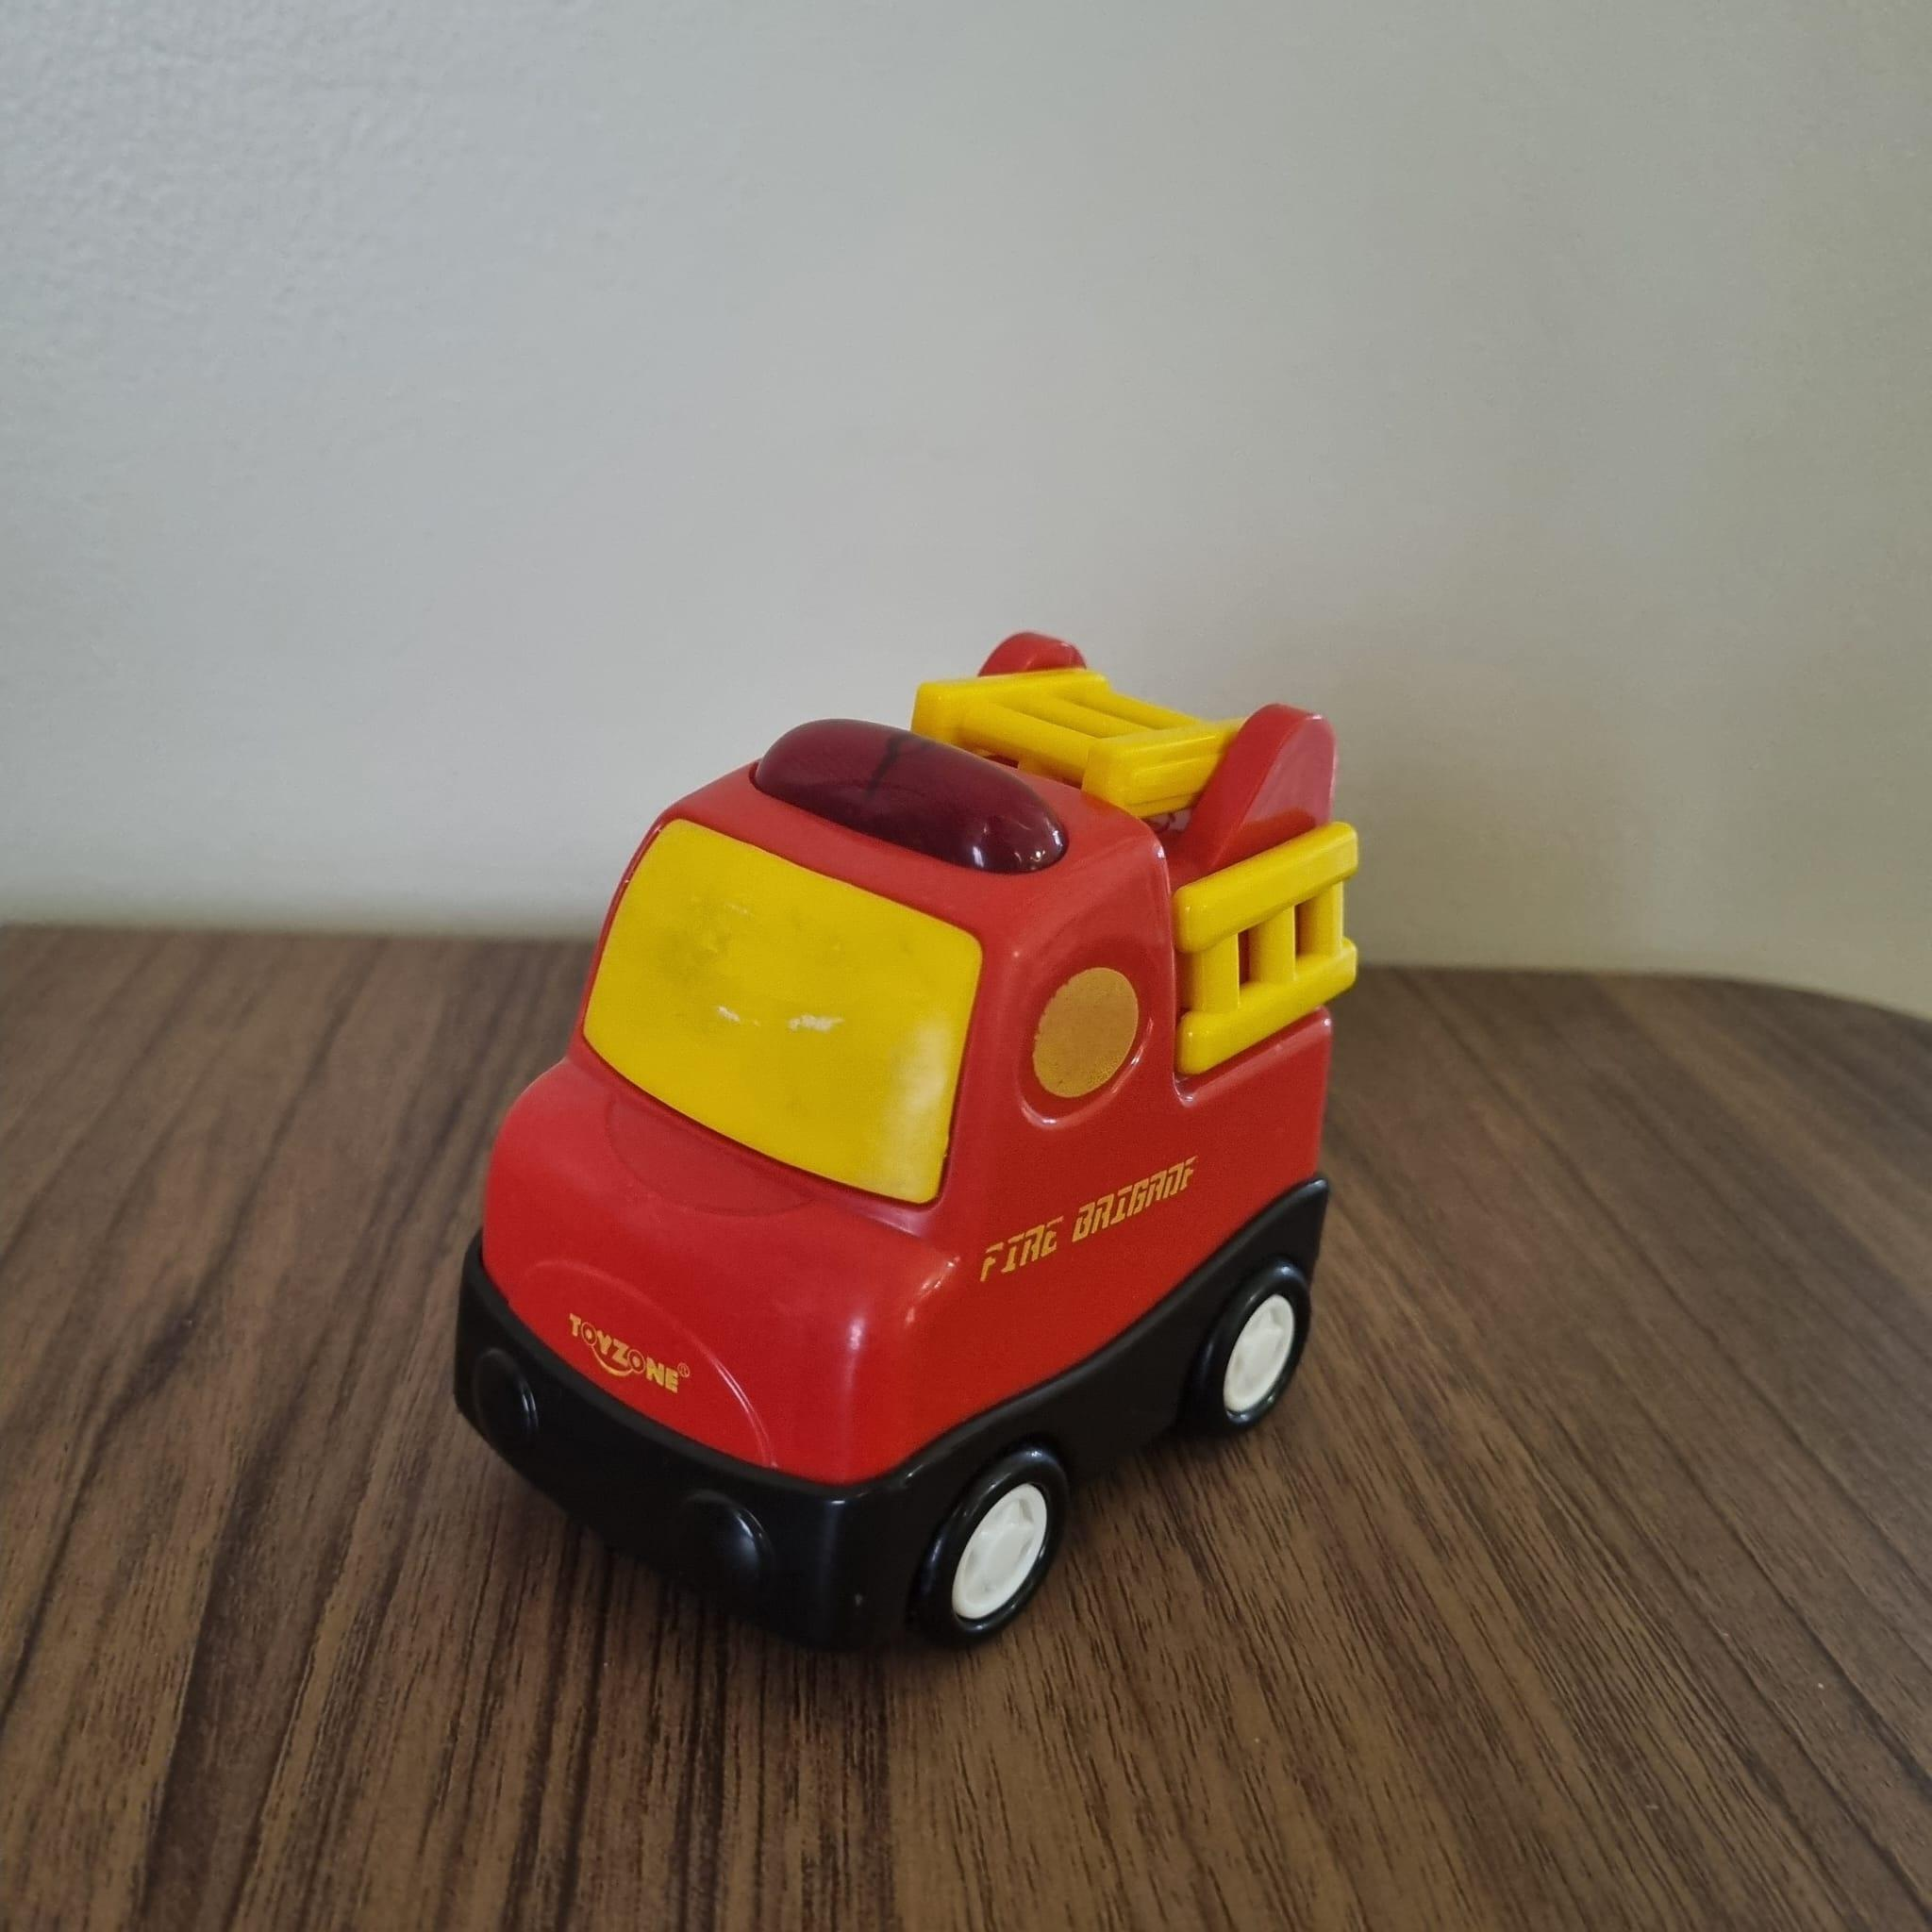firetruck_off: (464, 633, 1353, 1670)
